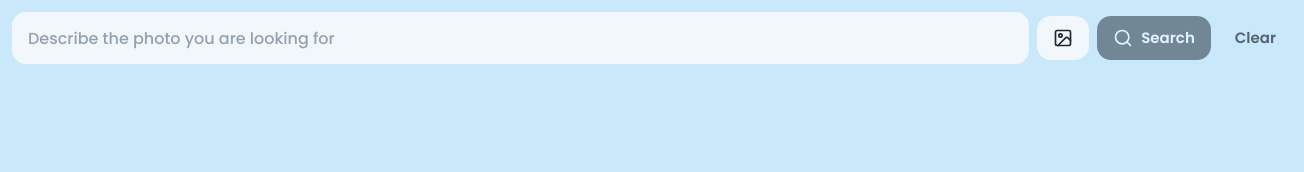
Test: the search row › clears the draft and tells the explorer to resume browsing
Type "bali" into the search field at (521, 38), box [12,12,1029,64]
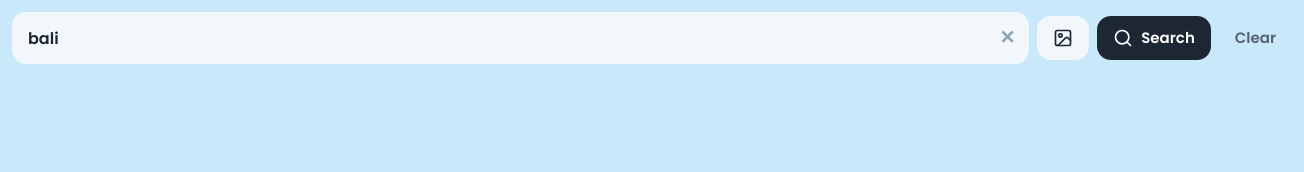
Click the button "Clear" at (1255, 38), box [1219,16,1292,60]
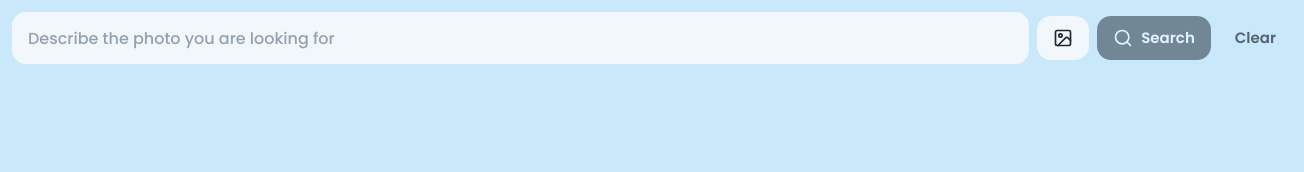
Expected: the search field is empty, [12,12,1029,64]
